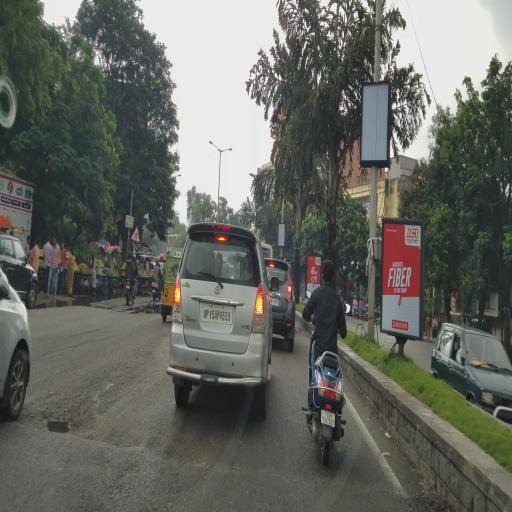street_light_0: (220, 140, 234, 160), (208, 138, 222, 156)
